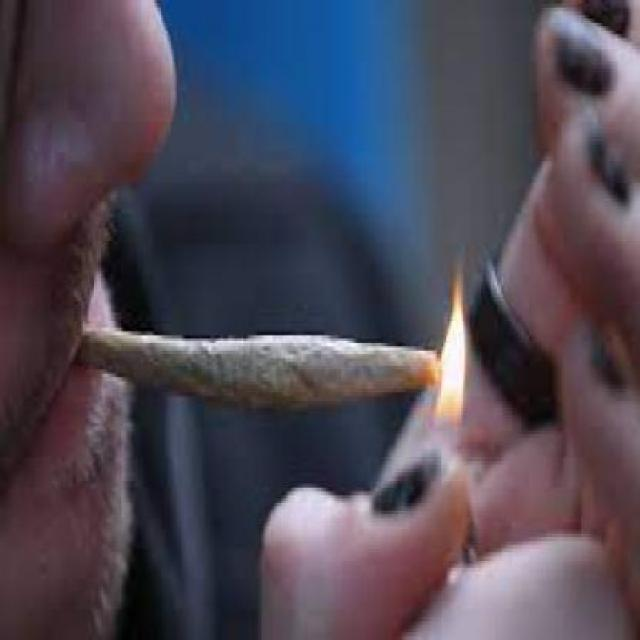smoke: (80, 309, 445, 405)
